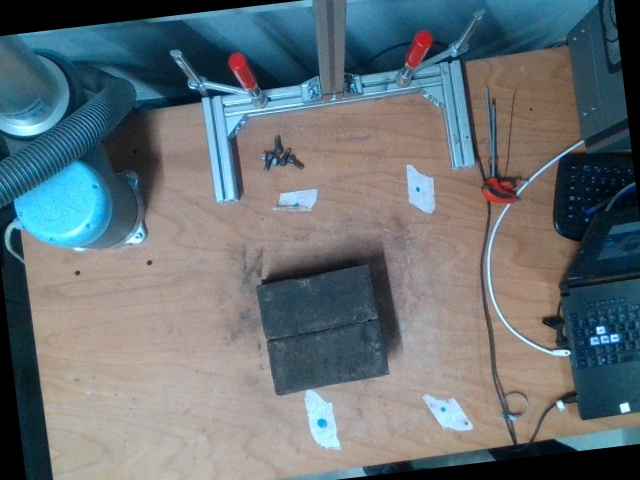brick: (256, 265, 380, 338), (268, 324, 387, 393)
